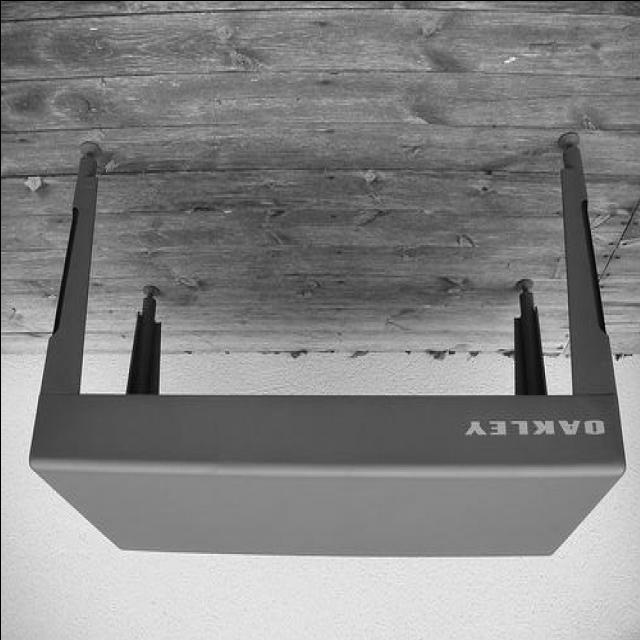table: (28, 140, 625, 558)
